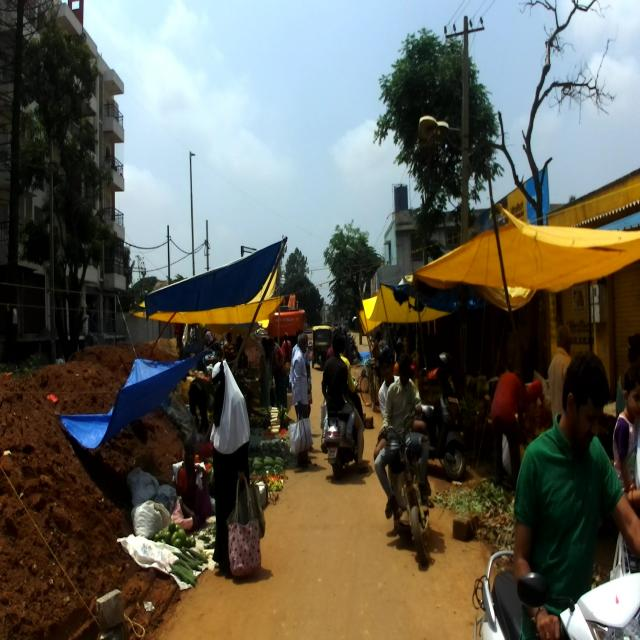scooter: (472, 552, 640, 639), (376, 410, 434, 564), (408, 351, 467, 480), (321, 368, 366, 479)
